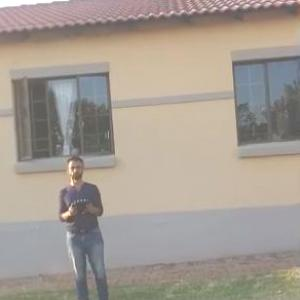follow: (53, 149, 115, 299)
